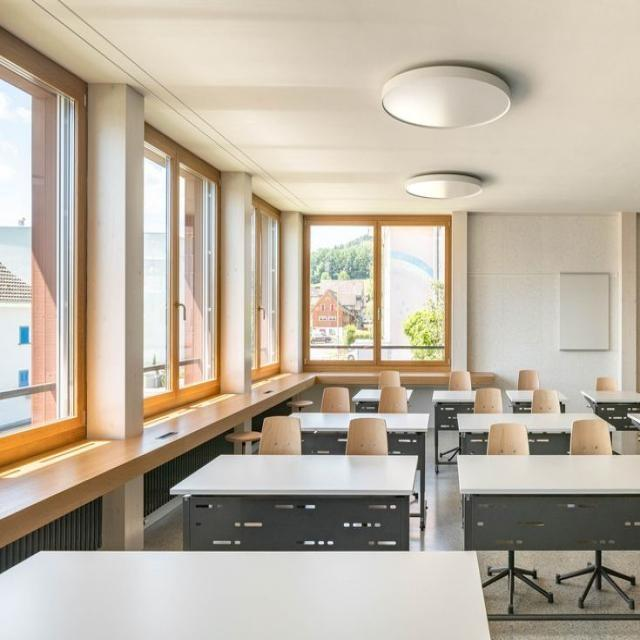door: (251, 192, 281, 378)
obstacle: (0, 548, 491, 639), (456, 452, 639, 618), (169, 452, 419, 550), (288, 411, 429, 530), (434, 392, 570, 474), (351, 386, 414, 412)
